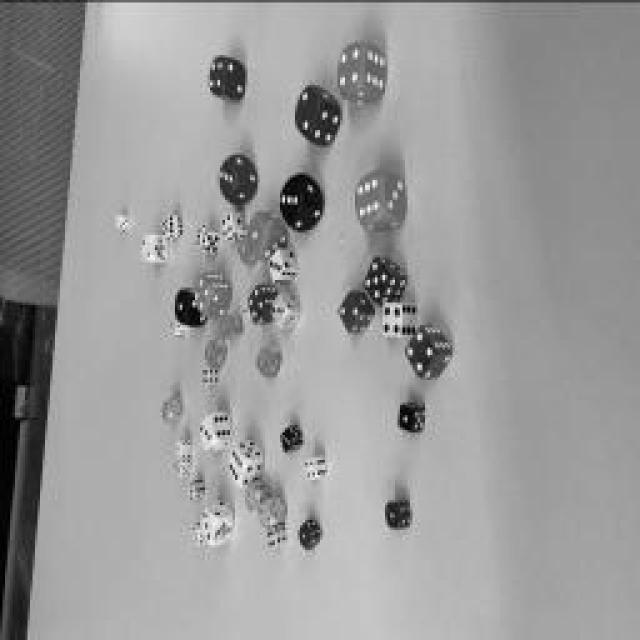dice_1: (248, 215, 268, 255), (398, 404, 414, 431), (385, 502, 400, 528), (175, 289, 187, 321), (300, 524, 310, 546), (176, 440, 182, 455), (114, 214, 118, 226)
dice_2: (295, 86, 317, 134), (338, 291, 360, 331), (259, 502, 271, 526), (245, 486, 255, 512), (140, 235, 150, 260)
dice_3: (278, 178, 302, 222), (219, 156, 236, 194), (268, 249, 284, 281), (200, 508, 212, 542), (200, 416, 212, 449), (270, 298, 285, 322), (280, 428, 292, 452), (205, 340, 215, 365), (187, 480, 195, 500), (192, 525, 198, 543)
dice_4: (405, 325, 435, 377), (338, 44, 362, 94), (381, 303, 401, 335), (247, 285, 265, 320), (208, 58, 224, 92), (195, 275, 210, 310), (220, 312, 230, 338), (222, 212, 232, 238), (305, 459, 315, 479)
dice_5: (362, 256, 390, 304), (161, 215, 169, 237)
dice_6: (355, 171, 385, 224), (228, 446, 244, 484), (256, 345, 269, 375), (238, 235, 250, 260), (198, 226, 208, 252), (266, 528, 276, 548), (161, 400, 169, 420), (175, 458, 183, 472), (201, 368, 209, 382), (170, 316, 175, 332)
